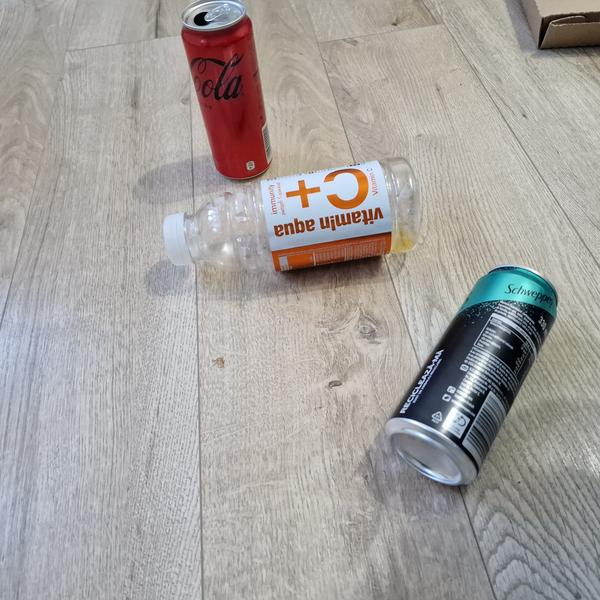can: (371, 244, 581, 502)
plastic_bottle: (154, 157, 430, 287)
